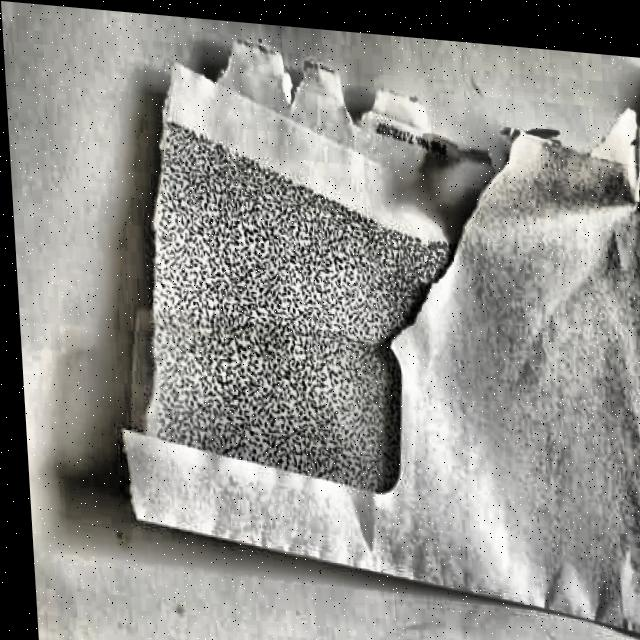paper: (93, 23, 640, 640)
